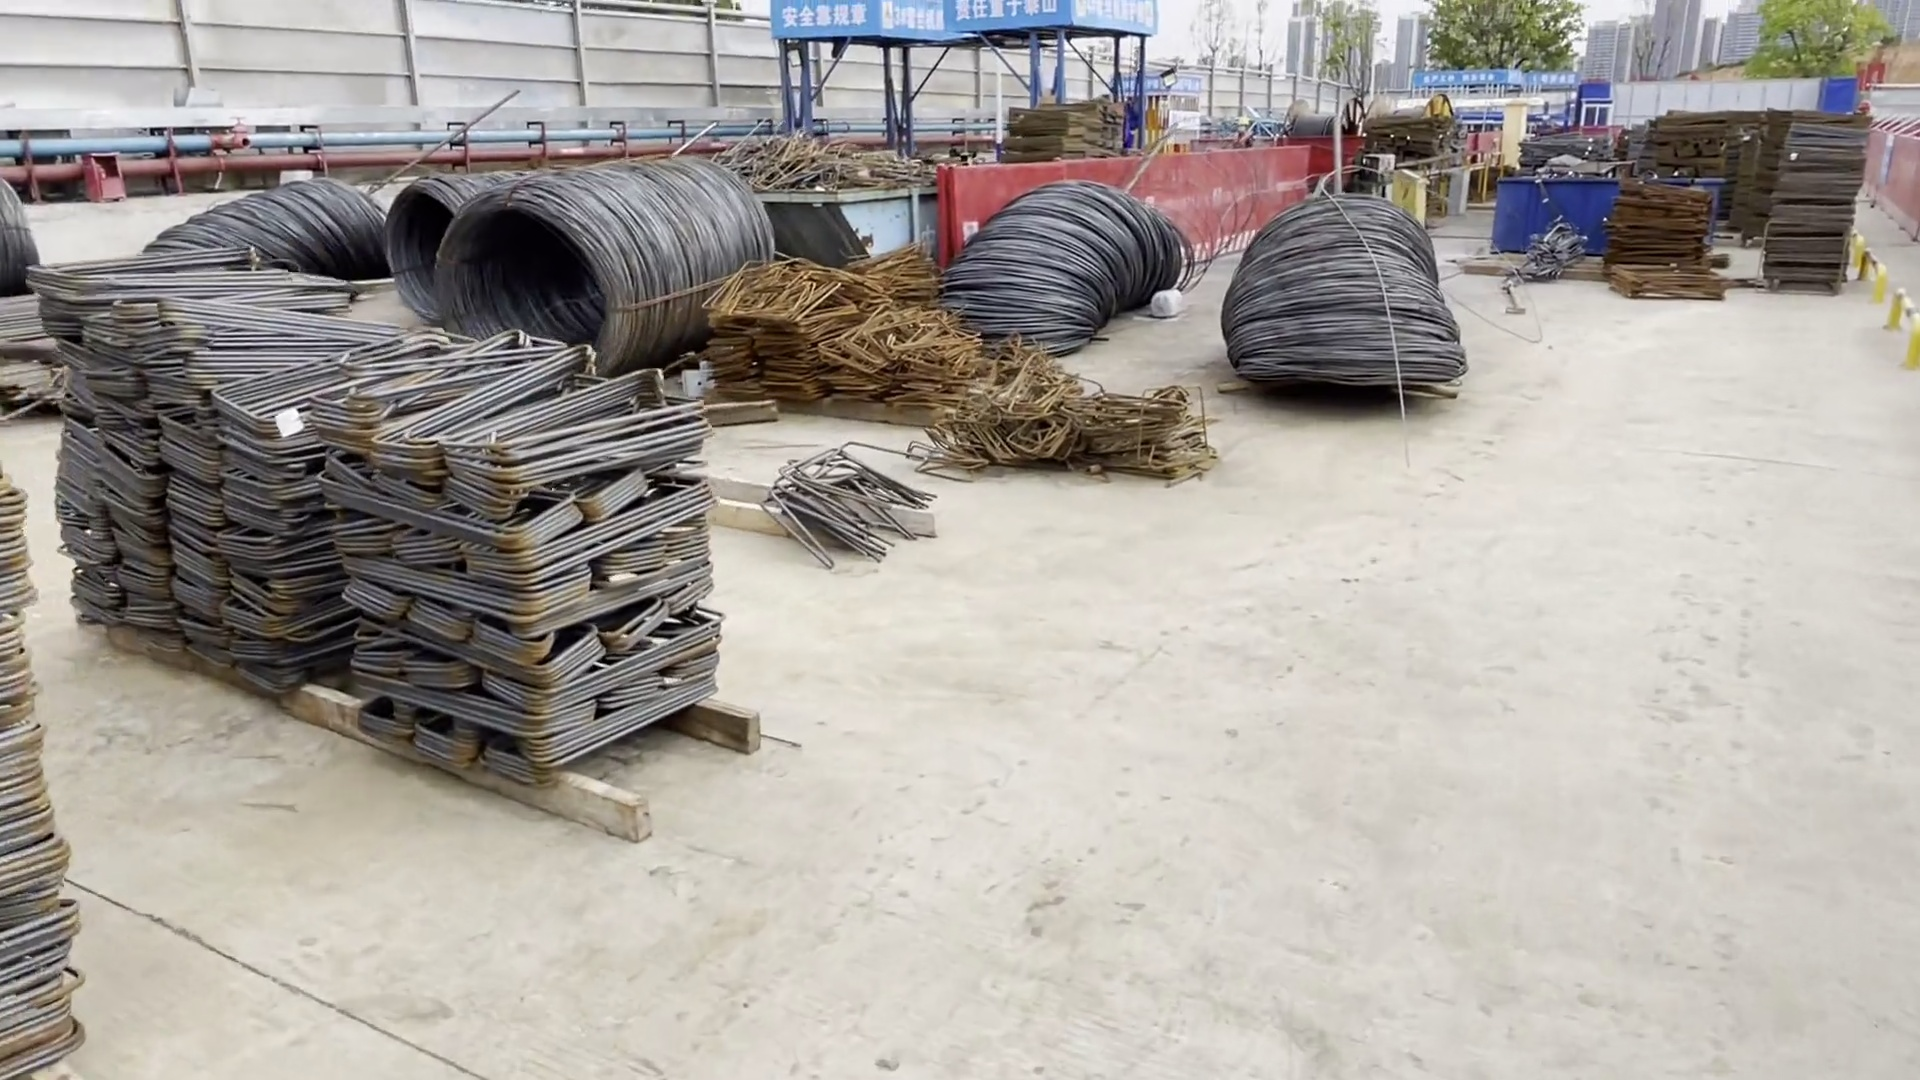ebox: (1498, 103, 1523, 161)
fence: (949, 142, 1299, 251), (1868, 126, 1920, 227)
hopper: (1487, 166, 1728, 255), (750, 167, 939, 255)
person: (1229, 117, 1249, 140)
rebar: (1512, 228, 1573, 283)
slogan: (770, 1, 1147, 48), (1425, 63, 1567, 89)
